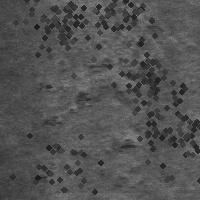rolled-in_scale: (1, 108, 113, 200), (69, 28, 146, 156), (116, 70, 200, 184), (6, 0, 116, 78), (105, 38, 189, 122), (80, 0, 166, 55)
